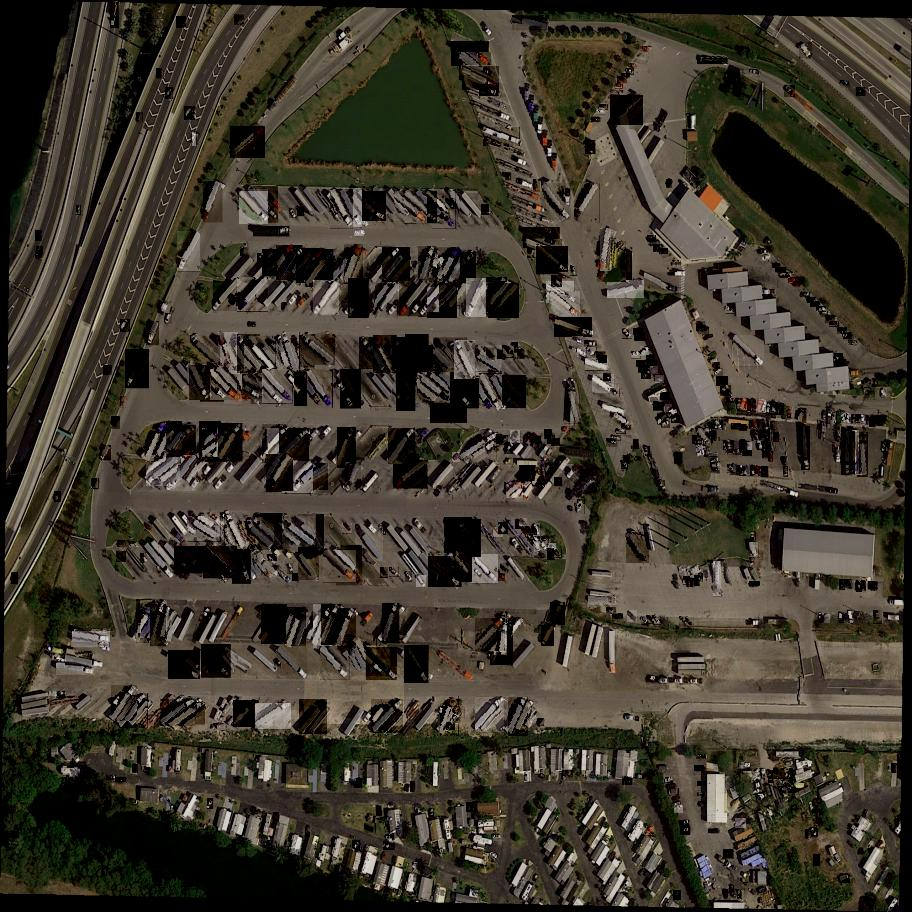large-vehicle: (596, 241, 627, 282), (433, 338, 468, 374), (229, 127, 268, 159), (143, 543, 175, 581), (246, 187, 279, 223), (475, 697, 508, 733), (280, 516, 317, 548), (541, 183, 572, 221), (370, 699, 404, 733), (322, 551, 357, 584), (203, 546, 238, 579), (267, 427, 300, 462), (245, 337, 278, 372), (393, 192, 429, 224), (262, 369, 294, 405), (336, 546, 364, 587), (382, 247, 413, 284), (350, 191, 388, 221), (355, 524, 385, 562), (305, 249, 335, 287), (406, 191, 440, 224), (427, 284, 460, 318), (282, 461, 316, 494), (275, 646, 308, 680), (366, 647, 399, 681), (237, 277, 270, 311), (261, 604, 289, 644), (443, 251, 478, 283), (574, 183, 602, 223), (294, 372, 326, 407), (392, 337, 424, 372), (405, 334, 431, 377), (418, 282, 449, 318), (202, 428, 239, 458), (226, 371, 264, 400), (359, 337, 392, 370), (489, 284, 521, 318), (495, 374, 527, 408), (242, 517, 276, 549), (475, 619, 507, 653), (208, 367, 240, 401), (428, 557, 463, 588), (162, 425, 197, 456), (201, 644, 232, 679), (320, 646, 351, 681), (302, 335, 337, 366), (295, 248, 326, 283), (416, 194, 452, 224), (146, 456, 182, 486), (120, 693, 150, 729), (251, 374, 287, 404), (261, 250, 301, 277), (372, 247, 402, 283), (442, 373, 472, 409), (388, 429, 417, 466), (170, 546, 208, 574), (155, 422, 183, 460), (267, 455, 295, 493), (285, 335, 316, 369), (213, 279, 244, 313), (464, 346, 503, 373), (298, 515, 325, 554), (254, 704, 293, 731), (610, 96, 645, 126), (490, 623, 515, 665), (298, 699, 328, 734), (418, 373, 453, 403), (444, 517, 473, 553), (254, 514, 283, 550), (399, 281, 428, 317), (140, 601, 168, 638), (292, 464, 330, 491), (307, 370, 334, 408), (126, 349, 151, 390), (177, 231, 202, 272), (279, 428, 311, 460), (465, 378, 497, 410), (239, 191, 270, 224), (733, 336, 766, 367), (200, 363, 226, 402), (393, 461, 429, 489), (263, 424, 288, 464), (170, 455, 197, 492), (160, 699, 197, 726), (190, 335, 222, 366), (536, 246, 569, 276), (457, 519, 483, 557), (219, 424, 245, 462), (404, 646, 430, 684), (460, 434, 498, 460), (432, 190, 457, 229), (111, 686, 138, 722), (375, 283, 402, 319), (338, 188, 362, 228), (437, 247, 461, 287), (410, 282, 440, 314), (168, 651, 201, 680), (451, 41, 489, 66), (313, 605, 335, 648), (277, 246, 304, 281), (313, 280, 340, 315), (199, 421, 222, 462), (355, 637, 378, 678), (237, 334, 261, 373), (462, 67, 501, 91), (479, 374, 503, 413), (459, 52, 491, 81), (466, 279, 489, 319), (486, 278, 509, 318), (330, 190, 353, 230), (374, 336, 398, 374), (145, 421, 167, 462), (321, 605, 343, 646), (225, 510, 248, 549), (168, 703, 207, 726), (549, 291, 581, 319), (644, 272, 681, 296), (218, 332, 240, 372), (340, 369, 362, 409), (454, 340, 476, 380), (188, 517, 223, 542), (471, 555, 500, 585), (286, 607, 307, 648), (348, 278, 369, 319), (425, 346, 458, 372), (508, 697, 530, 736), (188, 361, 210, 400), (204, 181, 224, 223), (232, 543, 252, 584), (337, 609, 357, 650), (337, 427, 357, 468), (396, 371, 416, 412), (430, 402, 469, 423), (523, 228, 560, 250), (440, 696, 460, 736), (418, 246, 437, 288), (564, 379, 581, 425), (606, 280, 645, 300), (344, 245, 364, 284), (224, 364, 243, 405), (626, 532, 650, 564), (281, 333, 300, 373), (554, 318, 594, 337), (150, 605, 168, 647), (136, 599, 153, 643), (233, 700, 259, 728), (483, 127, 521, 146), (383, 603, 401, 643), (231, 335, 249, 374), (527, 239, 563, 258), (512, 16, 550, 33), (298, 554, 320, 583), (546, 282, 575, 304), (454, 552, 474, 583), (841, 431, 855, 475), (494, 612, 508, 655), (64, 654, 104, 669), (601, 229, 614, 272), (345, 462, 362, 493), (56, 662, 95, 675), (857, 432, 868, 477), (592, 374, 616, 393), (73, 631, 111, 643), (850, 430, 860, 475), (254, 226, 290, 237), (801, 426, 810, 470), (550, 603, 566, 626), (508, 619, 526, 639), (541, 625, 557, 647), (505, 482, 525, 499), (146, 321, 159, 346), (602, 404, 627, 416), (262, 561, 280, 577), (520, 465, 536, 483), (586, 359, 609, 371), (697, 429, 713, 446), (613, 412, 631, 427), (588, 597, 617, 606), (609, 631, 615, 673), (714, 561, 721, 596), (773, 768, 793, 780), (110, 2, 119, 28), (799, 43, 813, 59), (72, 641, 109, 647), (480, 85, 500, 96), (625, 252, 632, 280), (533, 472, 545, 488), (750, 542, 761, 558), (657, 413, 671, 425), (698, 59, 727, 64), (720, 385, 732, 397), (798, 408, 807, 423), (717, 376, 729, 387), (756, 400, 765, 414), (702, 335, 714, 345), (740, 399, 749, 412), (771, 402, 779, 416), (761, 466, 770, 478), (762, 290, 777, 297), (776, 403, 784, 416), (696, 321, 706, 331), (724, 307, 735, 316), (762, 420, 770, 432), (762, 253, 772, 262), (654, 244, 664, 253), (711, 362, 721, 371), (698, 327, 709, 335), (773, 432, 781, 443), (786, 406, 793, 418), (714, 368, 723, 377), (767, 403, 773, 416), (761, 441, 768, 452), (753, 419, 760, 430), (736, 400, 743, 411), (628, 452, 637, 460), (740, 466, 747, 476), (781, 456, 788, 466), (734, 440, 741, 450), (736, 465, 743, 475), (754, 431, 761, 441), (764, 431, 771, 441), (732, 424, 741, 431), (659, 248, 668, 255), (745, 465, 751, 475), (768, 452, 774, 462), (744, 441, 750, 451), (735, 450, 745, 456), (743, 451, 753, 457), (647, 236, 657, 242), (666, 179, 672, 189), (750, 465, 755, 476), (750, 431, 756, 440), (763, 400, 767, 413), (759, 419, 764, 429), (762, 451, 768, 459), (747, 399, 751, 411), (732, 441, 737, 450), (757, 441, 762, 450), (740, 439, 745, 448), (748, 442, 753, 451), (726, 449, 735, 454), (784, 466, 788, 477), (740, 424, 747, 430), (758, 249, 766, 254), (724, 441, 728, 450), (672, 261, 681, 265), (760, 430, 764, 439), (767, 442, 771, 451), (726, 398, 733, 403), (756, 466, 760, 474), (759, 468, 763, 476), (772, 422, 776, 429), (733, 464, 736, 472), (729, 441, 731, 449), (750, 421, 752, 428)
ship: (782, 779, 797, 793), (735, 819, 748, 829), (577, 499, 585, 514)
small-vehicle: (101, 446, 113, 462), (550, 275, 563, 289), (585, 140, 597, 155), (184, 107, 197, 120), (783, 85, 796, 98), (493, 569, 507, 581), (502, 346, 515, 358), (111, 416, 122, 430), (497, 523, 509, 535), (627, 610, 639, 622), (230, 295, 241, 308), (433, 485, 444, 498), (511, 431, 522, 444), (415, 575, 426, 588), (485, 348, 496, 361), (363, 823, 377, 833), (176, 17, 187, 29), (234, 15, 246, 26), (503, 443, 515, 454), (492, 527, 503, 539), (723, 849, 735, 860), (120, 319, 130, 332), (873, 611, 882, 625), (257, 253, 268, 264), (499, 563, 510, 574), (268, 554, 279, 565), (446, 199, 457, 210), (165, 88, 175, 100), (352, 840, 362, 852), (383, 841, 395, 851), (343, 523, 353, 535), (458, 343, 470, 353), (605, 438, 617, 448), (674, 452, 684, 464), (869, 415, 878, 428), (444, 533, 454, 544), (504, 482, 514, 493), (494, 434, 504, 445), (510, 342, 520, 353), (117, 551, 128, 561), (707, 422, 717, 433), (586, 347, 597, 357), (577, 348, 588, 358), (622, 329, 633, 339), (635, 332, 646, 342), (640, 346, 650, 357), (597, 355, 607, 366), (610, 389, 621, 399), (273, 658, 282, 670), (547, 548, 556, 560), (680, 827, 692, 836), (557, 272, 569, 281), (573, 336, 585, 345), (545, 463, 554, 475), (653, 403, 665, 412), (289, 209, 299, 219), (499, 436, 509, 446), (452, 453, 462, 463), (390, 568, 400, 578), (481, 205, 491, 215), (497, 350, 507, 360), (489, 852, 499, 862), (548, 543, 558, 553), (674, 806, 684, 816), (554, 477, 564, 487), (679, 617, 689, 627), (379, 524, 388, 535), (465, 521, 476, 530), (517, 349, 526, 360), (452, 306, 461, 317), (856, 87, 867, 96), (810, 828, 819, 839), (669, 409, 680, 418), (646, 826, 655, 837), (457, 707, 466, 718), (646, 355, 655, 366), (413, 863, 421, 875), (646, 676, 658, 684), (855, 581, 863, 593), (659, 393, 671, 401), (534, 180, 541, 193), (584, 341, 597, 348), (103, 365, 112, 375), (515, 520, 524, 530), (385, 834, 395, 843), (144, 522, 154, 531), (140, 553, 149, 563), (692, 435, 702, 444), (835, 354, 845, 363), (240, 247, 249, 257), (531, 534, 541, 543), (452, 716, 462, 725), (446, 723, 456, 732), (547, 435, 556, 445), (544, 430, 553, 440), (581, 469, 590, 479), (589, 476, 598, 486), (530, 433, 539, 443), (617, 76, 627, 85), (632, 351, 642, 360), (639, 366, 649, 375), (642, 370, 652, 379), (651, 398, 661, 407), (653, 615, 662, 625), (620, 461, 629, 471), (696, 445, 706, 454), (36, 247, 44, 258), (35, 230, 43, 241), (11, 573, 19, 584), (204, 607, 212, 618), (92, 479, 100, 490), (208, 798, 216, 809), (840, 81, 851, 89), (813, 855, 821, 866), (847, 579, 855, 590), (839, 580, 847, 591), (673, 890, 681, 901), (622, 777, 633, 785), (775, 268, 787, 275), (848, 611, 855, 623), (535, 524, 542, 536), (751, 531, 758, 543), (475, 570, 484, 579), (561, 426, 570, 435), (551, 438, 560, 447), (583, 483, 592, 492), (686, 617, 695, 626), (136, 112, 144, 122), (281, 302, 289, 312), (381, 568, 389, 578), (405, 572, 413, 582), (449, 562, 457, 572), (519, 519, 529, 527), (715, 419, 723, 429), (875, 416, 883, 426), (825, 315, 835, 323), (706, 433, 714, 443), (541, 541, 549, 551), (522, 527, 530, 537), (466, 802, 474, 812), (603, 373, 613, 381), (650, 367, 660, 375), (670, 415, 680, 423), (665, 405, 675, 413), (655, 376, 665, 384), (54, 492, 61, 503), (166, 314, 173, 325), (305, 825, 312, 836), (118, 541, 129, 548), (750, 70, 761, 77), (837, 327, 848, 334), (865, 415, 872, 426), (881, 442, 888, 453), (534, 541, 541, 552), (356, 778, 363, 789), (633, 329, 644, 336), (658, 480, 665, 491), (292, 574, 301, 582), (57, 691, 66, 699), (537, 718, 545, 727), (768, 770, 774, 782), (538, 551, 547, 559), (525, 527, 533, 536), (637, 361, 646, 369), (646, 616, 655, 624), (622, 456, 631, 464), (840, 876, 850, 883), (192, 132, 197, 146), (160, 794, 167, 804), (694, 576, 701, 586), (683, 576, 690, 586), (661, 421, 671, 428), (711, 462, 721, 469), (377, 805, 383, 816), (882, 416, 888, 427), (832, 413, 838, 424), (749, 581, 760, 587), (527, 535, 535, 543), (298, 207, 305, 216), (247, 321, 256, 328), (489, 443, 496, 452), (788, 277, 797, 284), (608, 770, 615, 779), (664, 777, 673, 784), (535, 436, 542, 445), (607, 607, 616, 614), (626, 68, 635, 75), (596, 109, 605, 116), (648, 362, 657, 369), (641, 617, 648, 626), (711, 458, 720, 465), (689, 579, 696, 588), (697, 450, 706, 457), (121, 397, 127, 407), (287, 564, 293, 574), (133, 763, 139, 773), (713, 420, 719, 430), (410, 782, 416, 792), (816, 306, 826, 312), (792, 282, 802, 288), (891, 763, 897, 773), (824, 614, 830, 624), (854, 612, 860, 622), (842, 413, 848, 423), (694, 766, 704, 772), (525, 772, 531, 782), (571, 266, 577, 276), (611, 435, 621, 441), (505, 173, 513, 180), (542, 536, 550, 543), (555, 550, 562, 558), (727, 465, 734, 473), (851, 414, 856, 425), (612, 614, 623, 619), (273, 813, 279, 822), (355, 230, 364, 236), (492, 834, 501, 840), (807, 297, 816, 303), (811, 302, 820, 308), (861, 415, 867, 424), (597, 352, 606, 358), (703, 571, 709, 580), (679, 821, 689, 826), (740, 763, 750, 768), (646, 446, 651, 456), (830, 321, 838, 327), (698, 781, 706, 787), (805, 830, 811, 838), (705, 424, 711, 432), (670, 789, 678, 795), (615, 83, 623, 89), (156, 68, 161, 77), (821, 311, 830, 316), (801, 292, 810, 297), (533, 527, 538, 536), (711, 468, 720, 473), (844, 333, 851, 339), (130, 542, 138, 547), (116, 778, 126, 782), (724, 889, 729, 897), (856, 415, 861, 423), (845, 580, 850, 588), (633, 440, 638, 448), (107, 775, 116, 779), (591, 118, 600, 122), (621, 73, 630, 77), (773, 263, 780, 268), (754, 790, 761, 795), (600, 104, 607, 109), (49, 692, 57, 696), (712, 432, 716, 440), (781, 273, 789, 277), (869, 581, 873, 589), (846, 414, 850, 422), (617, 429, 625, 433), (819, 613, 822, 623), (840, 613, 843, 623), (861, 580, 864, 590), (430, 809, 434, 816), (611, 90, 618, 94), (738, 889, 741, 898), (699, 573, 702, 582), (77, 206, 80, 214), (882, 389, 885, 397), (848, 341, 856, 344), (709, 829, 717, 832), (541, 769, 544, 777), (698, 755, 706, 758), (710, 453, 718, 456), (641, 47, 648, 50), (623, 426, 630, 429), (695, 441, 702, 444), (874, 581, 876, 591), (698, 792, 704, 795), (698, 802, 704, 804), (629, 64, 635, 66)
